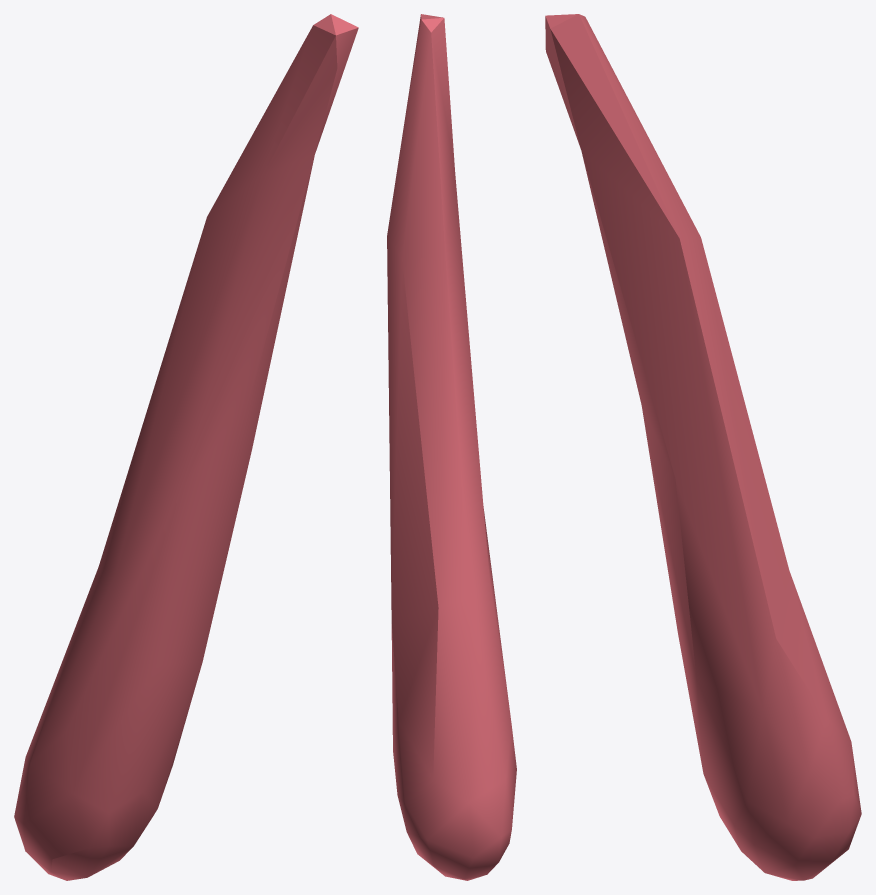
File: fma8675_fj6009.glb
The picture shows the model from 3 angles, left to right: view 1: azimuth 30°, elevation 25°; view 2: azimuth 150°, elevation 25°; view 3: azimuth 270°, elevation 25°; orthographic projection. The views are drawn at different scales.
Parts seen in each view (by area): view 1: FMA8675_FJ6009; view 2: FMA8675_FJ6009; view 3: FMA8675_FJ6009.
Boxes of the visible parts, x1,y1,x2,y2 form: FMA8675_FJ6009: [14, 14, 358, 880]; FMA8675_FJ6009: [387, 14, 516, 880]; FMA8675_FJ6009: [545, 14, 861, 880].
Bounding box in the file's own units: 0.00333 × 0.0129 × 0.00394.
